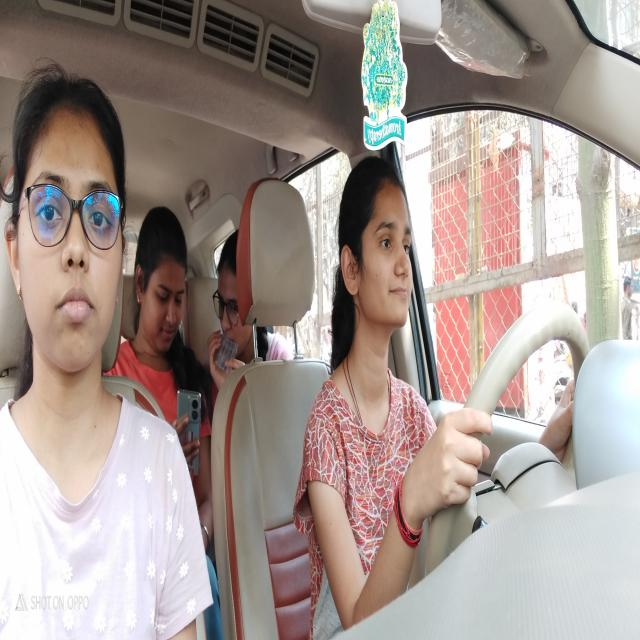person: (2, 58, 132, 392), (332, 131, 419, 359), (131, 200, 193, 354), (212, 234, 269, 366)
